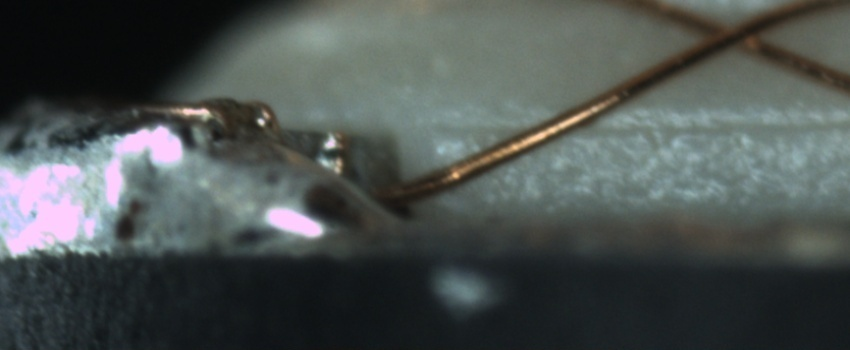CL: (687, 3, 783, 62)
DL: (421, 101, 849, 154)
TE: (111, 94, 353, 173)
